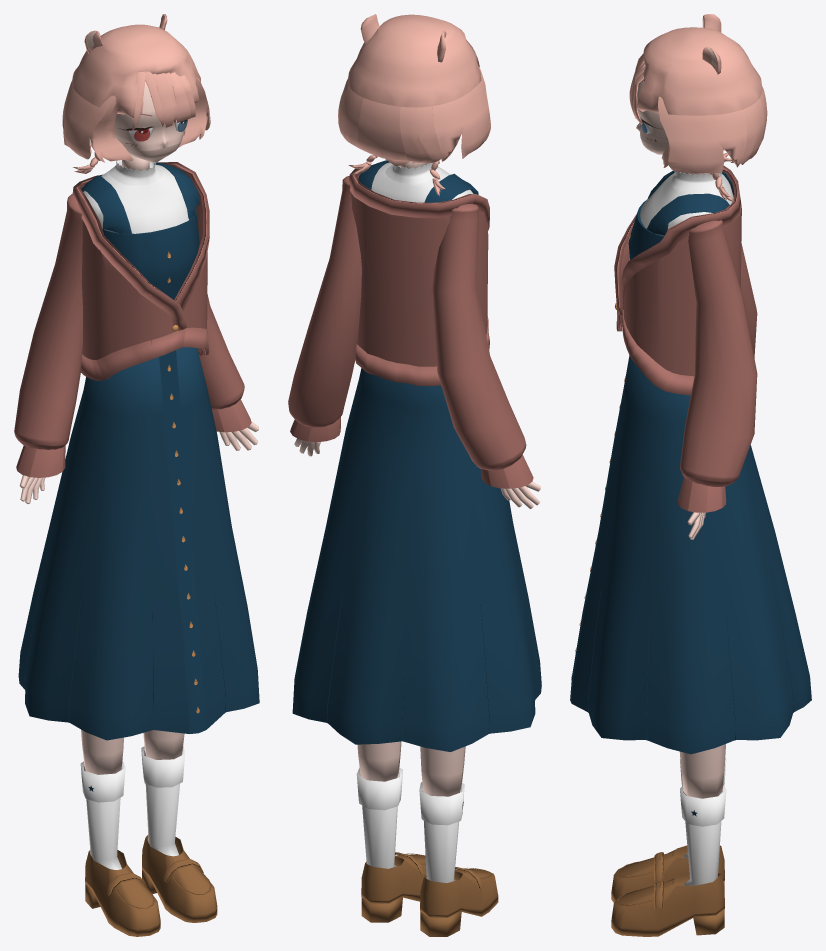
Rendered from reiya.glb.
3 views of the same model, side by side, from view 1: azimuth 30°, elevation 25°; view 2: azimuth 150°, elevation 25°; view 3: azimuth 270°, elevation 25° (orthographic). The views are drawn at different scales.
Parts seen in each view (by area): view 1: skirt, cardigan, arm_r, hair, bodice, top, shoe_r, shoe_l, arm_l, bob_r, sock_r, sock_l (+4 smaller); view 2: skirt, cardigan, arm_r, arm_l, hair, bob, shoe_r, legs, shoe_l, sock_l, sock_r, bob_r (+3 smaller); view 3: skirt, arm_l, cardigan, hair, shoe_l, bob_l, sock_l, bodice, shoe_r, top, legs, bob (+4 smaller).
Part boxes in pixels (bbox=[...]): skirt: bbox=[18, 347, 259, 740]; cardigan: bbox=[72, 162, 209, 380]; arm_r: bbox=[14, 194, 82, 503]; hair: bbox=[72, 24, 200, 118]; bodice: bbox=[81, 162, 199, 299]; top: bbox=[83, 160, 188, 233]; shoe_r: bbox=[85, 850, 160, 936]; shoe_l: bbox=[142, 834, 217, 922]; arm_l: bbox=[199, 294, 258, 450]; bob_r: bbox=[62, 80, 132, 162]; sock_r: bbox=[80, 760, 125, 869]; sock_l: bbox=[141, 746, 184, 856]; skirt: bbox=[292, 368, 541, 751]; cardigan: bbox=[348, 168, 489, 385]; arm_r: bbox=[432, 203, 540, 508]; arm_l: bbox=[288, 176, 361, 456]; hair: bbox=[348, 14, 481, 107]; bob: bbox=[340, 86, 442, 165]; shoe_r: bbox=[420, 867, 498, 936]; legs: bbox=[357, 741, 465, 796]; shoe_l: bbox=[361, 852, 426, 922]; sock_l: bbox=[356, 767, 403, 868]; sock_r: bbox=[419, 782, 464, 882]; bob_r: bbox=[432, 67, 490, 161]; skirt: bbox=[570, 355, 811, 754]; arm_l: bbox=[678, 220, 757, 539]; cardigan: bbox=[614, 166, 741, 395]; hair: bbox=[636, 27, 762, 115]; shoe_l: bbox=[611, 873, 724, 936]; bob_l: bbox=[658, 96, 746, 173]; sock_l: bbox=[680, 785, 726, 885]; bodice: bbox=[628, 170, 733, 259]; shoe_r: bbox=[611, 845, 724, 902]; top: bbox=[640, 171, 733, 235]; legs: bbox=[679, 744, 725, 798]; bob: bbox=[731, 86, 767, 164].
Size of the model in its own units: 0.4522 by 1.58 by 0.3915.
